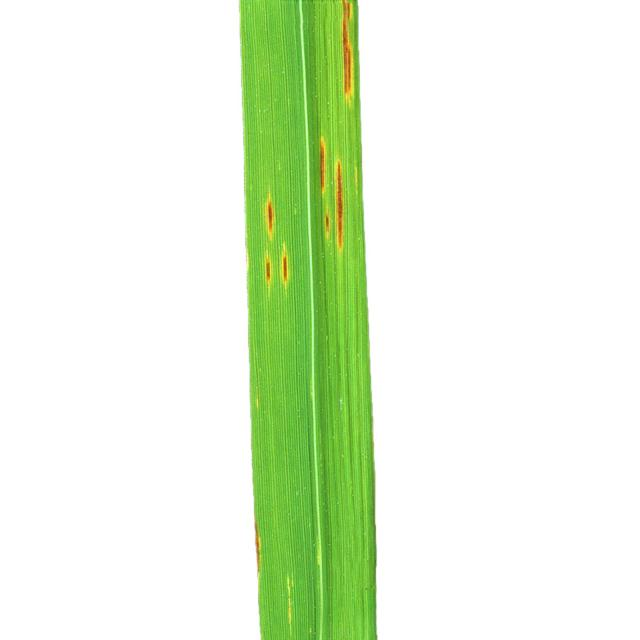Narrow brown: (186, 3, 462, 640)
